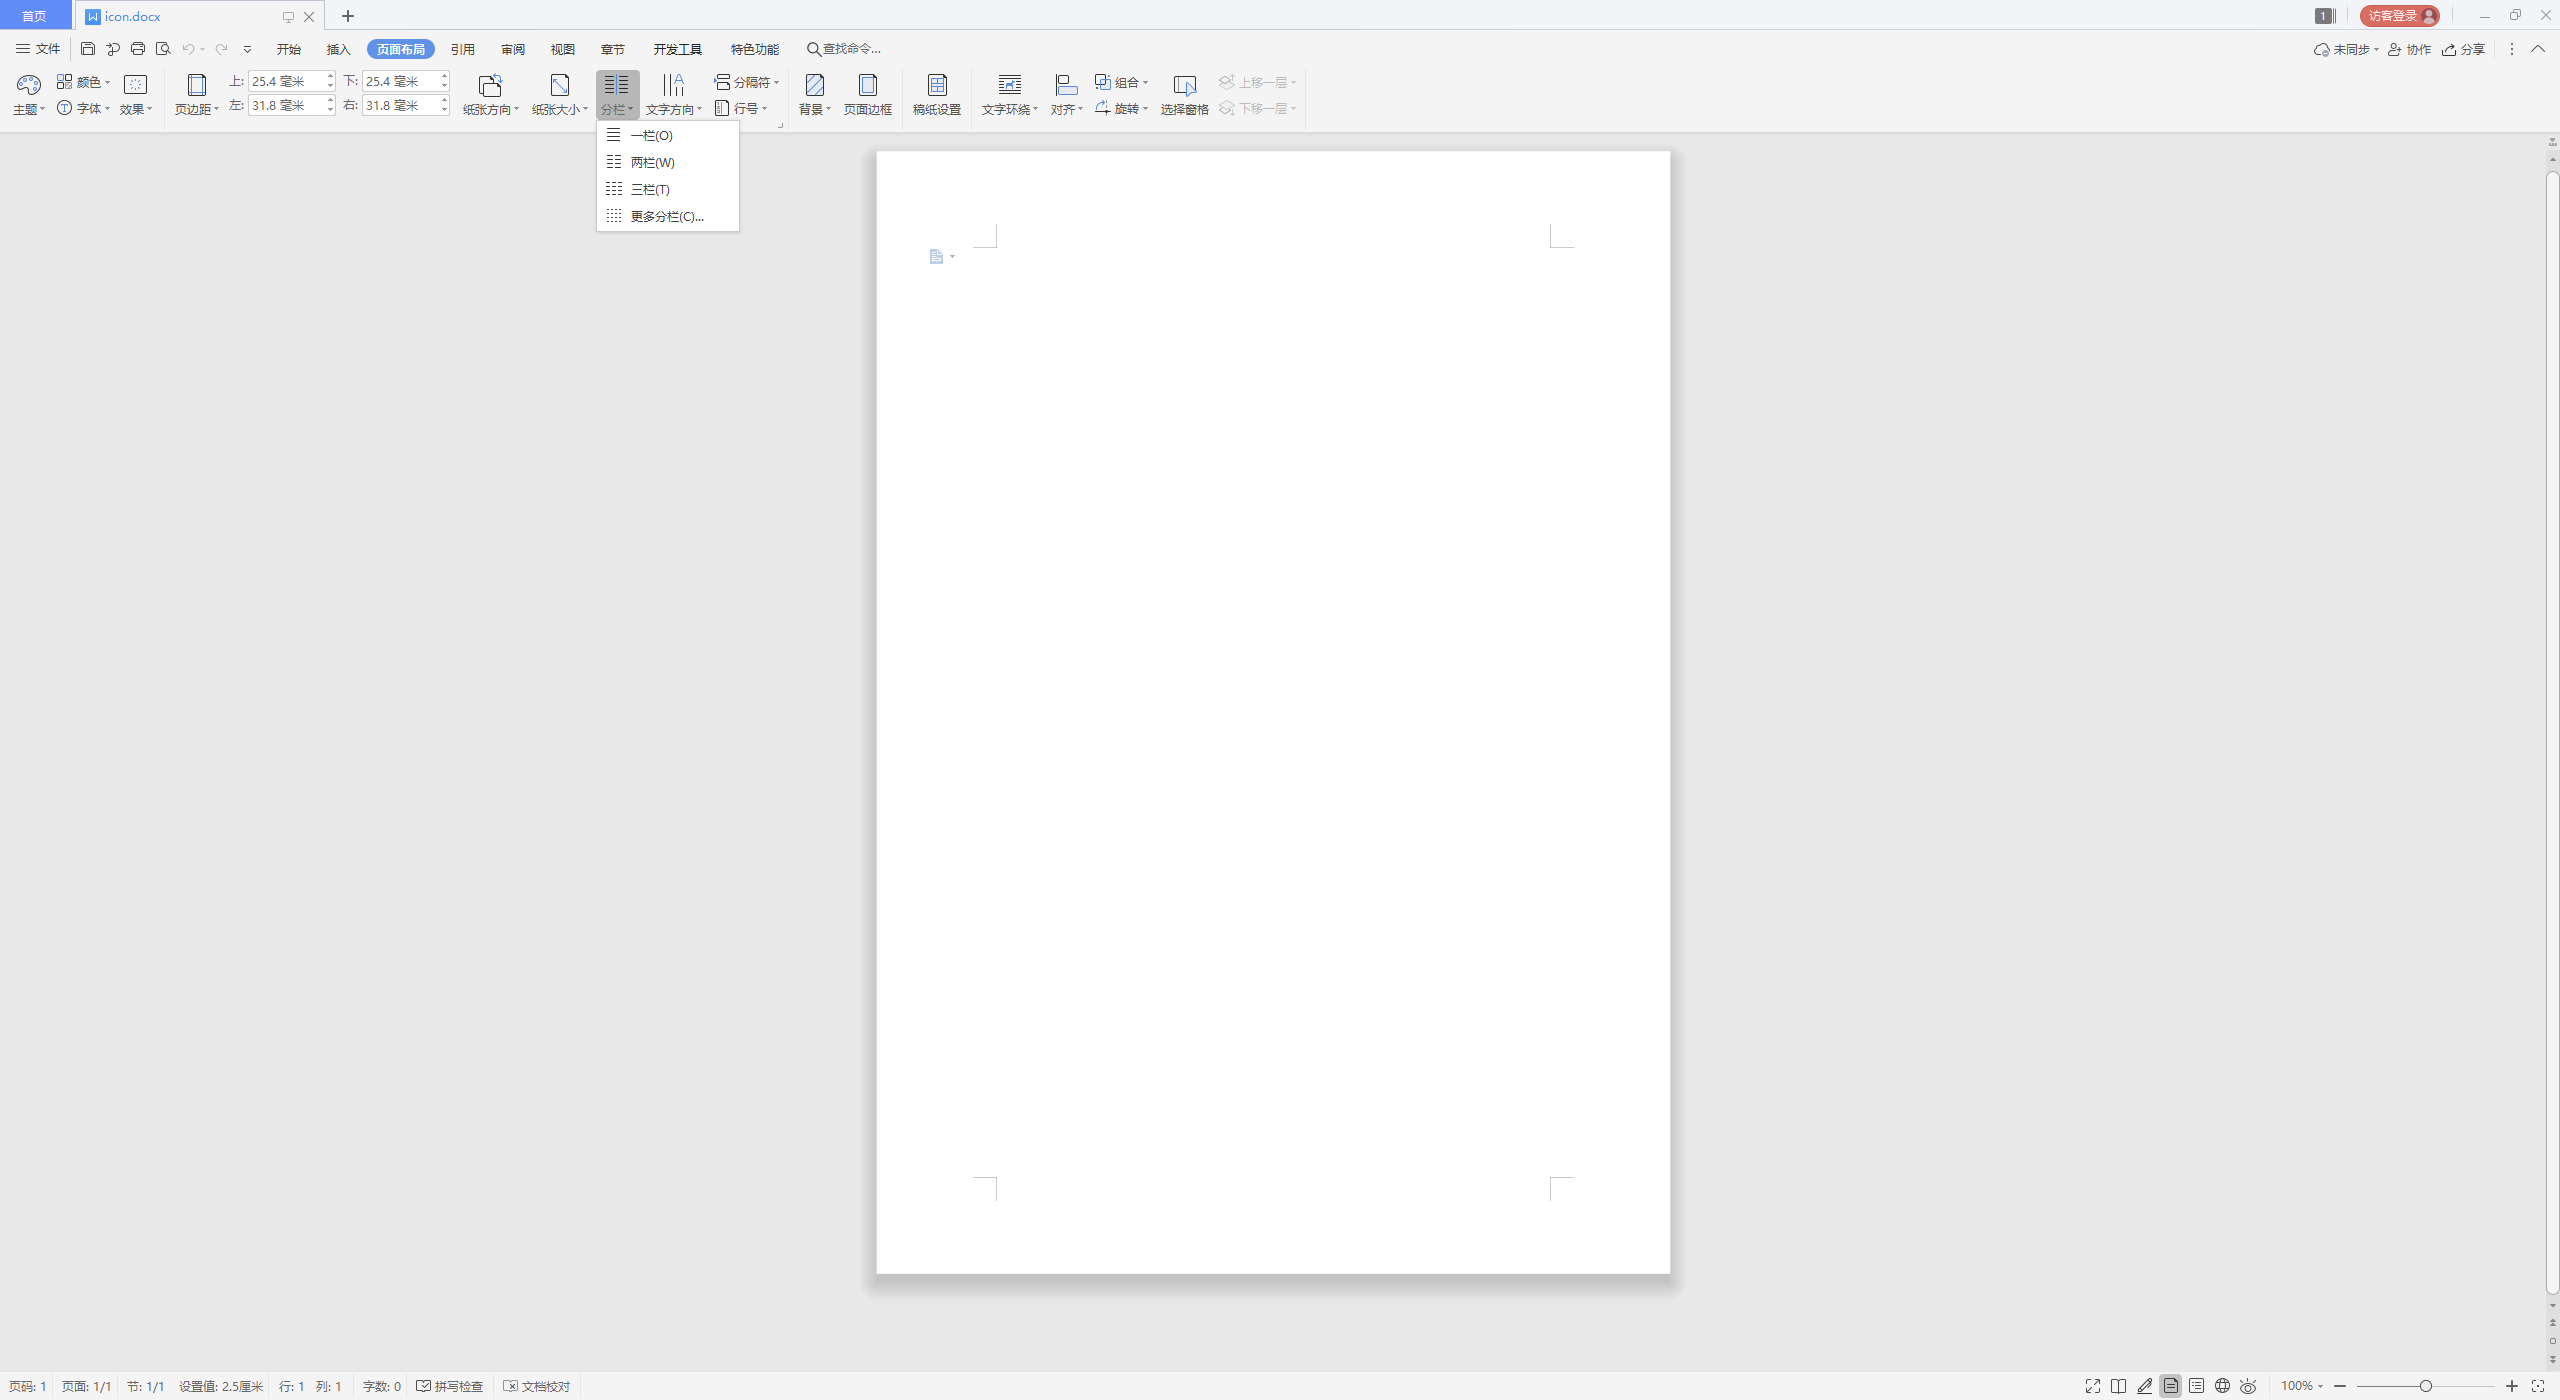character: (122, 1379, 265, 1395), (628, 207, 707, 226), (278, 1379, 341, 1395), (60, 1378, 114, 1395), (2277, 1372, 2315, 1397), (521, 1378, 571, 1395), (433, 1378, 486, 1393), (628, 128, 674, 145), (629, 155, 676, 172), (626, 181, 672, 198), (103, 10, 160, 24), (824, 41, 881, 55), (359, 1378, 400, 1395), (460, 103, 510, 117), (652, 43, 702, 57), (910, 102, 960, 116), (979, 103, 1029, 117), (1238, 76, 1288, 90), (365, 98, 421, 110), (376, 43, 431, 55), (529, 102, 578, 116), (729, 41, 777, 55), (645, 103, 693, 117), (843, 103, 891, 117), (1160, 102, 1208, 116), (1238, 102, 1286, 116), (2367, 9, 2415, 22), (252, 98, 305, 110), (2332, 41, 2369, 59), (252, 76, 307, 86), (365, 76, 421, 86), (733, 76, 771, 90), (2405, 40, 2432, 59), (2458, 40, 2488, 57), (9, 1381, 47, 1393), (495, 43, 528, 57), (546, 41, 579, 55), (596, 41, 629, 55), (172, 103, 209, 116), (74, 76, 102, 90), (598, 103, 626, 117), (33, 41, 62, 53), (21, 10, 50, 22), (72, 102, 102, 114), (116, 103, 145, 116), (322, 43, 352, 55), (10, 103, 38, 116), (276, 43, 303, 55), (448, 43, 476, 55), (733, 102, 757, 116), (798, 102, 822, 116), (1050, 103, 1074, 117), (1114, 76, 1138, 90), (1114, 102, 1138, 116), (228, 74, 245, 90), (341, 74, 359, 90), (340, 97, 359, 110), (226, 97, 243, 110)
icon: (972, 1172, 1002, 1203), (600, 71, 633, 98), (1546, 224, 1577, 250), (1548, 1178, 1577, 1203), (972, 222, 1002, 248), (1053, 71, 1079, 97), (660, 71, 684, 98), (478, 72, 503, 97), (996, 72, 1022, 97), (184, 72, 209, 97), (2158, 1372, 2182, 1397), (16, 72, 41, 95), (926, 71, 948, 97), (1172, 74, 1198, 97), (122, 72, 147, 95), (548, 72, 571, 97), (803, 72, 826, 97), (857, 72, 879, 97), (2184, 1374, 2208, 1397), (2107, 1374, 2129, 1397), (2236, 1374, 2258, 1397), (2134, 1376, 2157, 1397), (2212, 1374, 2232, 1397), (2082, 1374, 2105, 1395), (2313, 5, 2338, 24), (2419, 5, 2439, 26), (603, 152, 622, 171), (1093, 72, 1112, 91), (414, 1376, 433, 1395), (340, 5, 357, 24), (603, 179, 622, 197), (1217, 98, 1236, 116), (2417, 1376, 2434, 1395), (55, 98, 72, 116), (179, 40, 197, 57), (103, 40, 121, 57), (84, 9, 102, 26), (55, 72, 72, 90), (714, 72, 731, 90), (1093, 98, 1110, 116), (2313, 40, 2331, 57), (2503, 40, 2520, 57), (502, 1378, 519, 1395), (14, 40, 33, 55), (2527, 1378, 2546, 1393), (79, 40, 97, 55), (153, 40, 171, 55), (279, 9, 297, 24), (714, 98, 729, 116), (605, 207, 622, 222), (807, 40, 822, 57), (927, 248, 945, 264), (1219, 72, 1234, 90), (2439, 41, 2457, 57), (2505, 1378, 2520, 1395), (129, 40, 145, 55), (300, 9, 315, 24), (605, 126, 621, 141), (2388, 41, 2403, 57), (2529, 41, 2546, 55), (2476, 9, 2493, 22), (2507, 7, 2522, 21), (2539, 7, 2553, 22), (214, 41, 228, 55), (2332, 1378, 2346, 1391), (2546, 1298, 2558, 1312), (2315, 1378, 2327, 1391), (1289, 76, 1302, 90), (2546, 136, 2558, 148), (2546, 152, 2558, 164), (197, 41, 207, 55), (102, 74, 112, 88), (1289, 100, 1300, 114), (38, 102, 48, 116), (102, 102, 112, 116), (2546, 1316, 2557, 1329), (695, 102, 705, 114), (2372, 41, 2382, 53), (2548, 1334, 2557, 1348), (241, 43, 252, 53), (145, 103, 155, 114), (1140, 76, 1150, 86), (2550, 1352, 2557, 1367), (1076, 103, 1084, 116), (212, 102, 221, 114), (440, 105, 450, 114), (512, 103, 522, 112), (581, 103, 591, 112), (1141, 103, 1150, 114), (948, 252, 957, 262), (1033, 103, 1040, 116), (326, 72, 334, 81), (326, 83, 334, 91), (440, 97, 450, 103), (440, 72, 450, 79), (440, 83, 450, 90), (628, 103, 634, 114), (326, 97, 334, 103), (326, 105, 333, 114), (772, 78, 779, 86), (760, 105, 767, 114), (826, 103, 833, 112), (777, 121, 784, 129)
